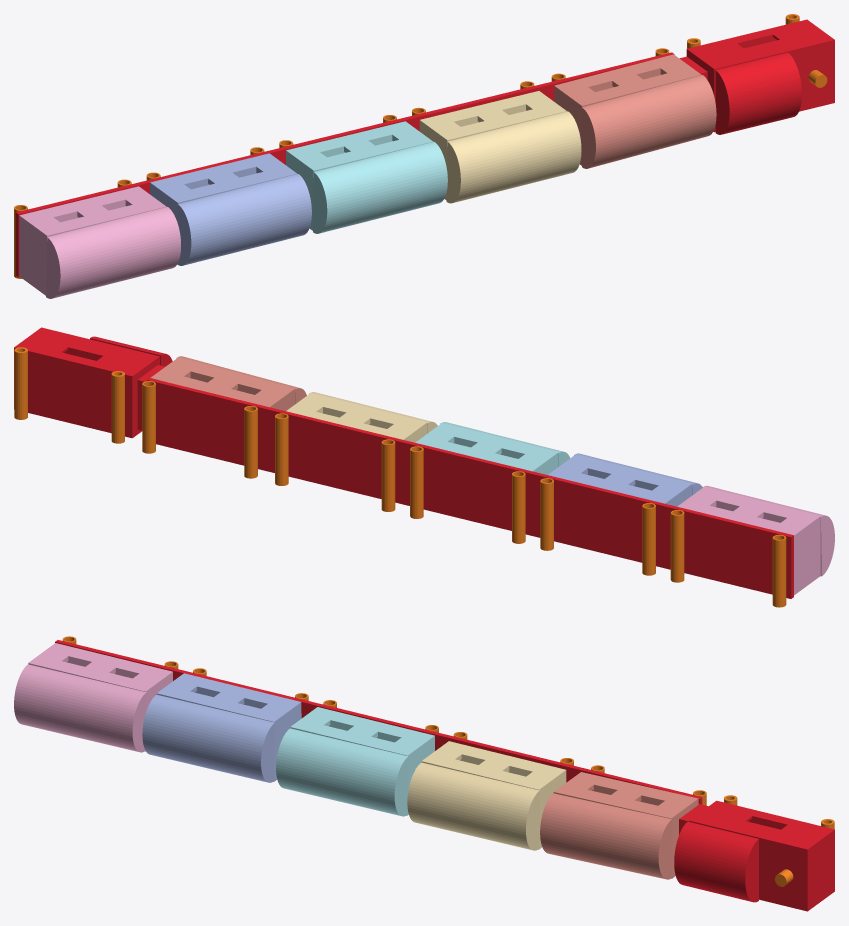
Rendered from tinker.obj.
The picture shows the model from 3 angles, top to bottom: view 1: azimuth 30°, elevation 25°; view 2: azimuth 150°, elevation 25°; view 3: azimuth 330°, elevation 25°; orthographic projection.
Parts seen in each view (by area): view 1: group_0_15277357, group_0_15708628, group_0_15308428, group_0_11593967, group_0_16311991, group_0_11452141, group_0_16089887; view 2: group_0_15277357, group_0_16089887, group_0_15708628, group_0_15308428, group_0_11452141, group_0_11593967, group_0_16311991; view 3: group_0_15277357, group_0_11452141, group_0_16311991, group_0_11593967, group_0_15308428, group_0_15708628, group_0_16089887.
Boxes of the visible parts, left/top/right/bottom form: group_0_15277357: left=16, top=19, right=834, bottom=277; group_0_15708628: left=19, top=186, right=180, bottom=298; group_0_15308428: left=554, top=54, right=716, bottom=168; group_0_11593967: left=286, top=121, right=447, bottom=233; group_0_16311991: left=419, top=91, right=581, bottom=203; group_0_11452141: left=150, top=153, right=311, bottom=265; group_0_16089887: left=14, top=14, right=827, bottom=278; group_0_15277357: left=14, top=327, right=793, bottom=598; group_0_16089887: left=14, top=347, right=786, bottom=607; group_0_15708628: left=677, top=485, right=834, bottom=595; group_0_15308428: left=150, top=356, right=306, bottom=410; group_0_11452141: left=548, top=453, right=702, bottom=506; group_0_11593967: left=415, top=422, right=570, bottom=474; group_0_16311991: left=286, top=392, right=437, bottom=442; group_0_15277357: left=55, top=640, right=834, bottom=911; group_0_11452141: left=142, top=673, right=301, bottom=782; group_0_16311991: left=407, top=741, right=566, bottom=850; group_0_11593967: left=276, top=707, right=434, bottom=816; group_0_15308428: left=540, top=772, right=698, bottom=879; group_0_15708628: left=14, top=643, right=172, bottom=752; group_0_16089887: left=62, top=636, right=834, bottom=886.
Size of the model in its own units: 328 by 28 by 37.
